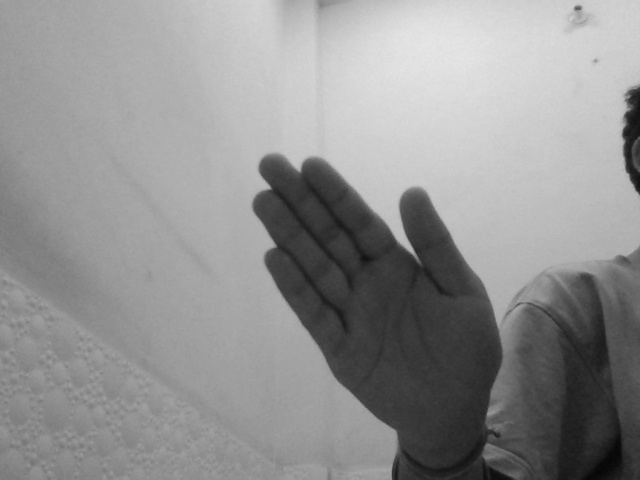Hello: (248, 151, 505, 429)
